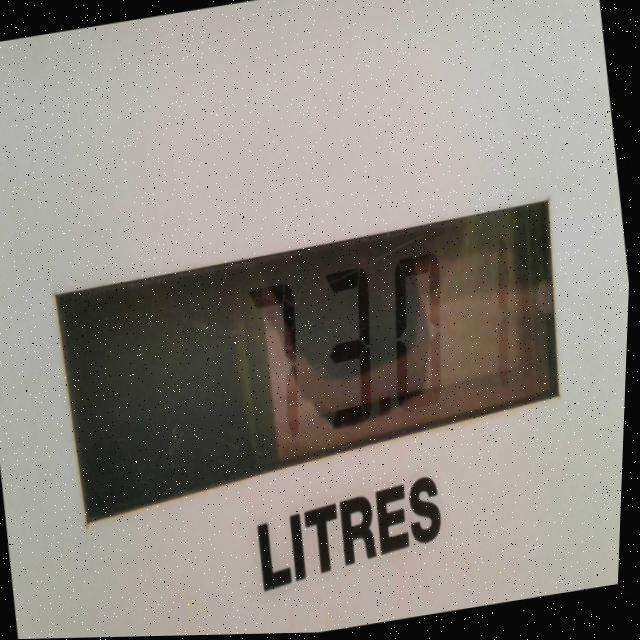.: (373, 380, 402, 431)
0: (372, 245, 469, 431)
1: (465, 227, 540, 404)
3: (307, 265, 388, 437)
7: (228, 267, 330, 455)
